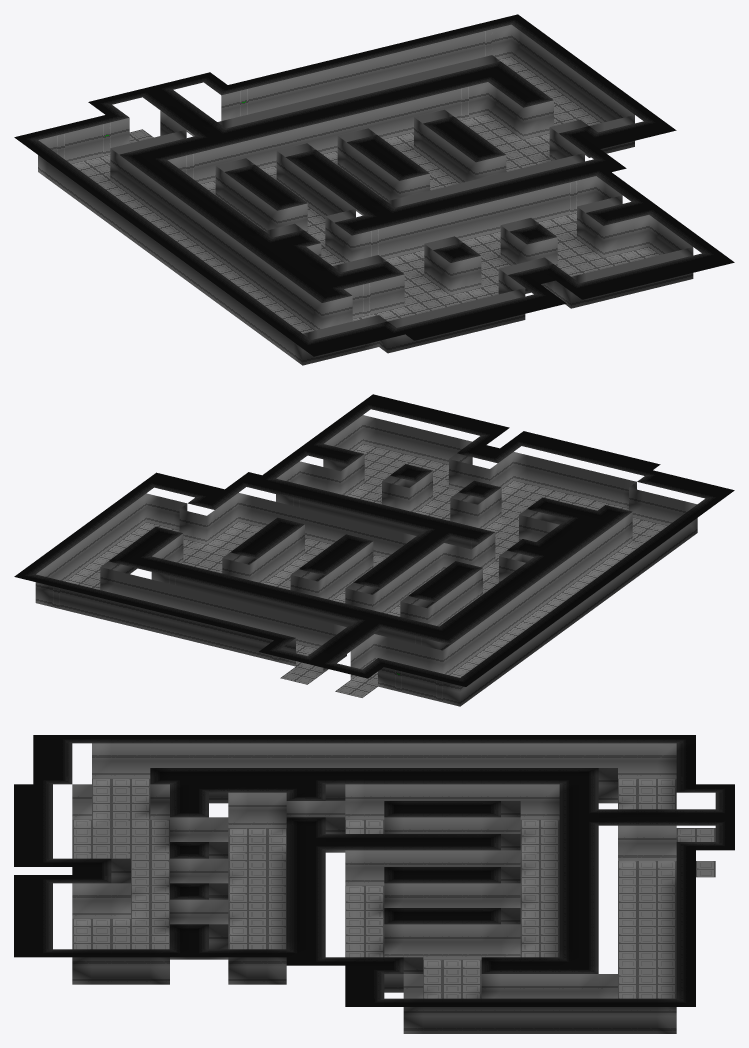
The model's file is level2.obj.
The picture shows the model from 3 angles, top to bottom: view 1: azimuth 30°, elevation 25°; view 2: azimuth 150°, elevation 25°; view 3: azimuth 270°, elevation 25°; orthographic projection. The views are drawn at different scales.
Visible parts, largest first — view 1: Default; view 2: Default; view 3: Default.
Boxes of the visible parts, x1,y1,x2,y2 form: Default: [14, 14, 734, 365]; Default: [14, 394, 734, 706]; Default: [14, 735, 734, 1033].
Size of the model in its own units: 33 by 2 by 37.
Materials: 1 (1 with a texture image).
